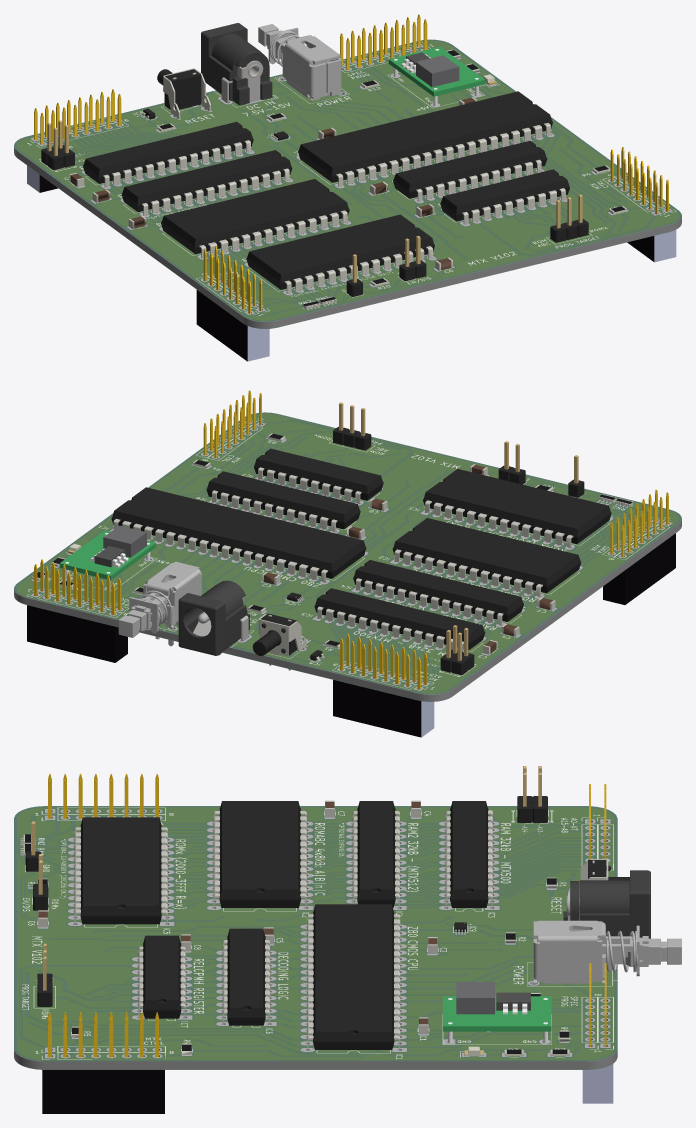
Rendered from mtx.glb.
3 renders of one model, top to bottom at view 1: azimuth 30°, elevation 25°; view 2: azimuth 150°, elevation 25°; view 3: azimuth 270°, elevation 25°, orthographic. The views are drawn at different scales.
Visible parts, largest first — view 1: IC7, =>[0:1:1:39], =>[0:1:1:34], JA2, =>[0:1:1:41], =>[0:1:1:35], SW2, =>[0:1:1:37], module-pcb, J2, module-inductor, PL1 (+2 smaller); view 2: IC7, =>[0:1:1:39], JA2, =>[0:1:1:34], =>[0:1:1:41], =>[0:1:1:35], SW2, =>[0:1:1:37], module-pcb, J2, module-inductor, R1 (+2 smaller); view 3: =>[0:1:1:39], IC7, =>[0:1:1:34], JA2, =>[0:1:1:35], =>[0:1:1:41], SW2, =>[0:1:1:37], module-pcb, module-inductor, R1, J2 (+1 smaller).
Part boxes in pixels (x1,y1,x2,y2): IC7: (41, 49, 627, 308); =>[0:1:1:39]: (14, 39, 681, 328); =>[0:1:1:34]: (17, 41, 678, 320); JA2: (27, 14, 676, 361); =>[0:1:1:41]: (14, 40, 681, 328); =>[0:1:1:35]: (30, 44, 672, 314); SW2: (258, 24, 342, 100); =>[0:1:1:37]: (27, 41, 676, 315); module-pcb: (388, 46, 485, 96); J2: (47, 77, 582, 282); module-inductor: (416, 55, 459, 87); PL1: (221, 60, 263, 103); IC7: (32, 426, 632, 675); =>[0:1:1:39]: (14, 412, 681, 701); JA2: (27, 390, 675, 737); =>[0:1:1:34]: (17, 414, 678, 693); =>[0:1:1:41]: (14, 413, 681, 701); =>[0:1:1:35]: (30, 420, 672, 690); SW2: (118, 561, 201, 646); =>[0:1:1:37]: (27, 418, 669, 689); module-pcb: (59, 530, 155, 580); J2: (67, 402, 578, 660); module-inductor: (103, 525, 146, 557); R1: (33, 433, 633, 648); =>[0:1:1:39]: (14, 806, 617, 1069); IC7: (23, 796, 629, 1056); =>[0:1:1:34]: (17, 808, 613, 1059); JA2: (42, 773, 650, 1113); =>[0:1:1:35]: (20, 809, 610, 1058); =>[0:1:1:41]: (14, 807, 617, 1069); SW2: (533, 920, 681, 984); =>[0:1:1:37]: (22, 807, 617, 1059); module-pcb: (443, 996, 551, 1031); module-inductor: (456, 982, 494, 1014); R1: (23, 834, 569, 1056); J2: (31, 766, 541, 1056).
Bounding box in the file's own units: 0.1 × 0.0208 × 0.1107.
